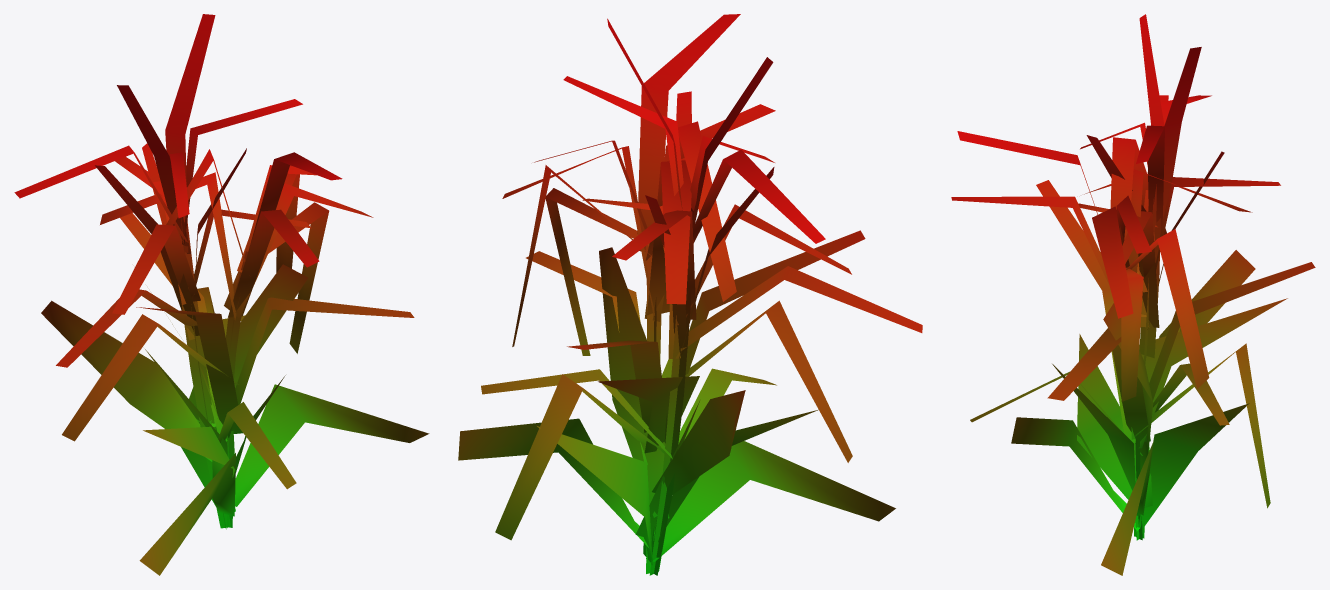
Rendered from Var3_LOD3.fbx.
3 renders of one model, left to right at view 1: azimuth 30°, elevation 25°; view 2: azimuth 150°, elevation 25°; view 3: azimuth 270°, elevation 25°, orthographic. The views are drawn at different scales.
Parts seen in each view (by area): view 1: _e912_Var3_LOD3; view 2: _e912_Var3_LOD3; view 3: _e912_Var3_LOD3.
Part boxes in pixels (x1,y1,x2,y2): _e912_Var3_LOD3: (14,14,429,575); _e912_Var3_LOD3: (458,14,922,575); _e912_Var3_LOD3: (951,14,1315,575).
Size of the model in its own units: 36.24 by 44.21 by 29.37.
